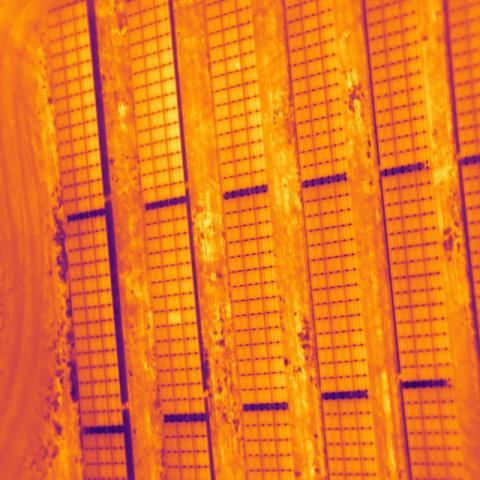fault: (167, 310, 182, 326)
